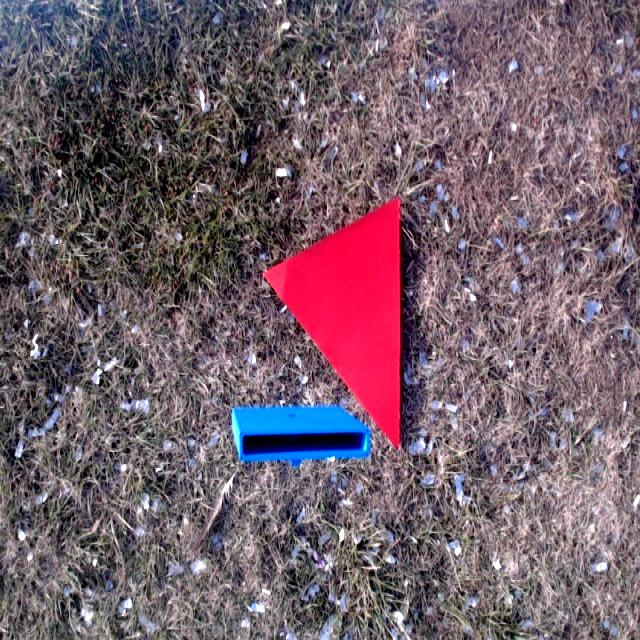red_triangle: (264, 195, 402, 445)
